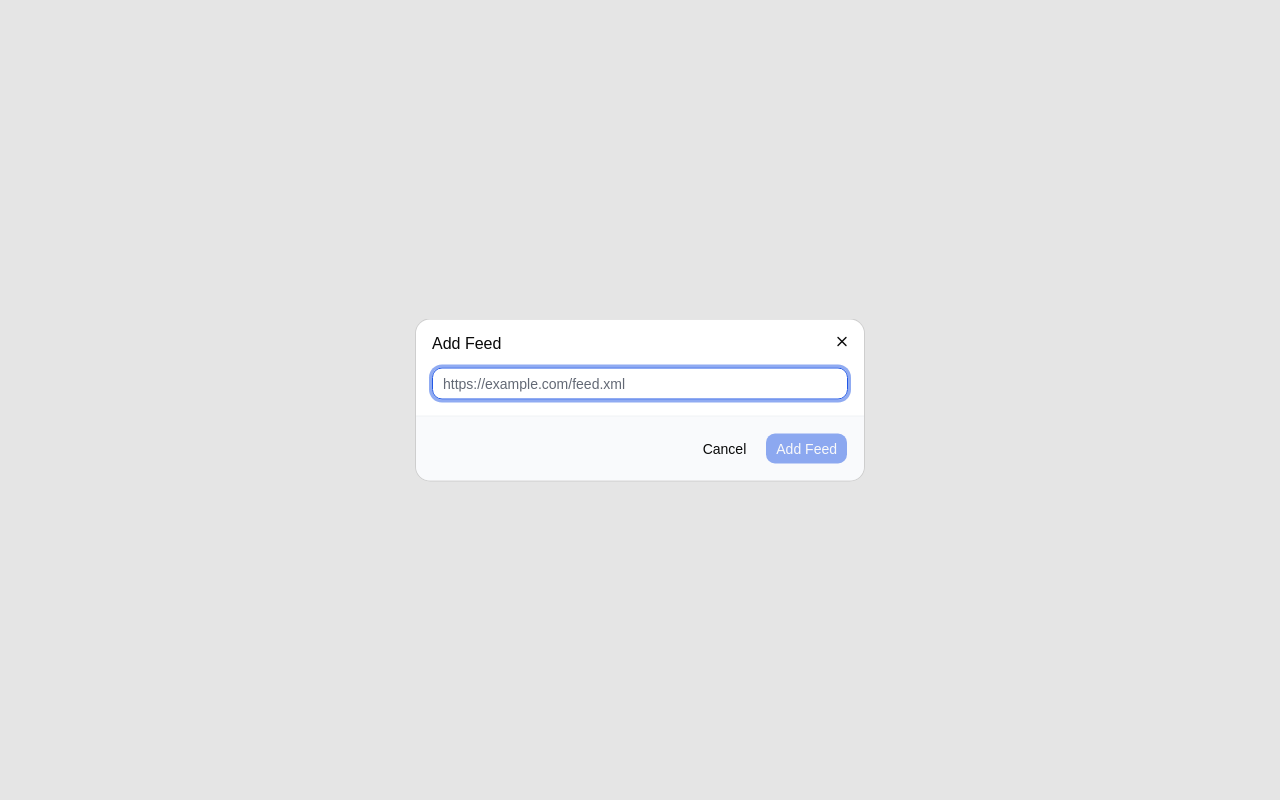
Test: AddFeedDialog › submit button enables when URL is entered
In the field with placeholder "https://example.com/feed.xml": (640, 384) 432,368 -> 848,400, type "https://blog.com/rss"
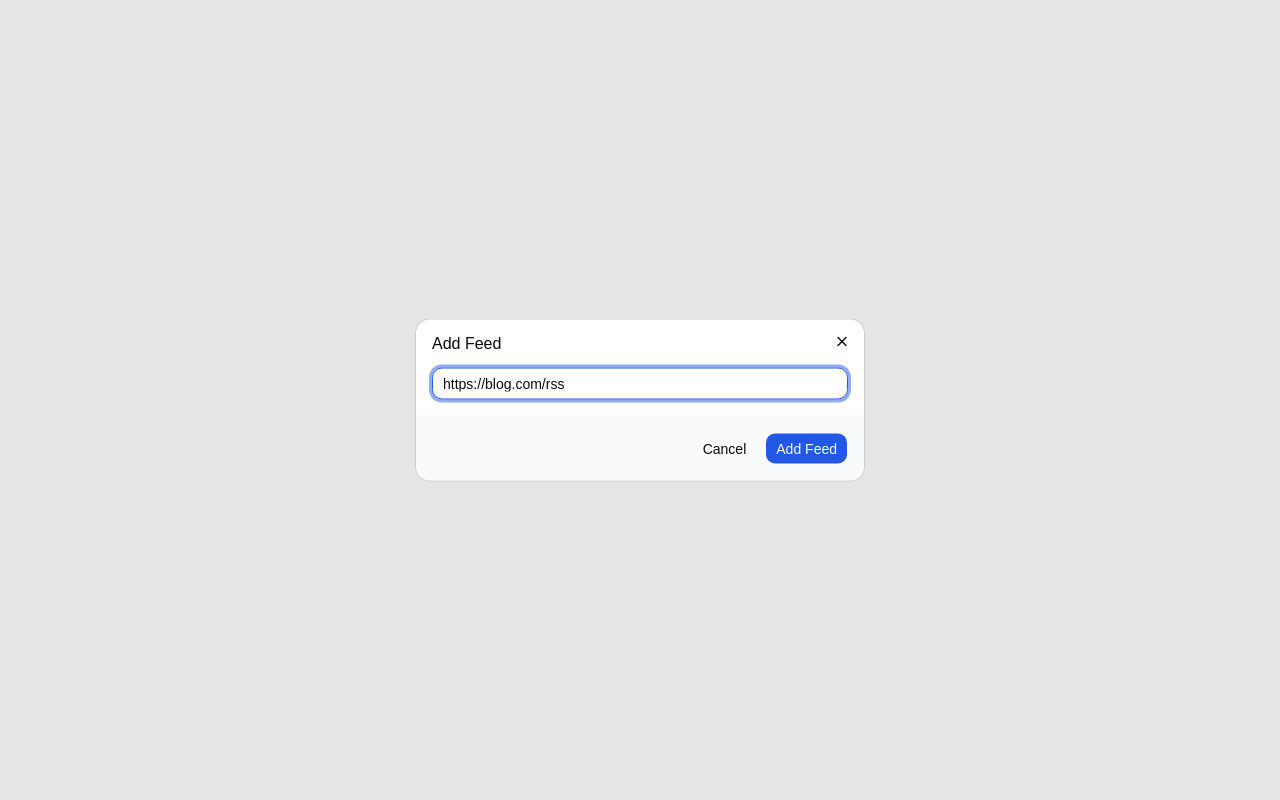
Expected: the button "Add Feed" is enabled, 765,432 -> 848,464
